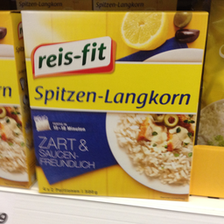rice: (22, 9, 208, 203)
